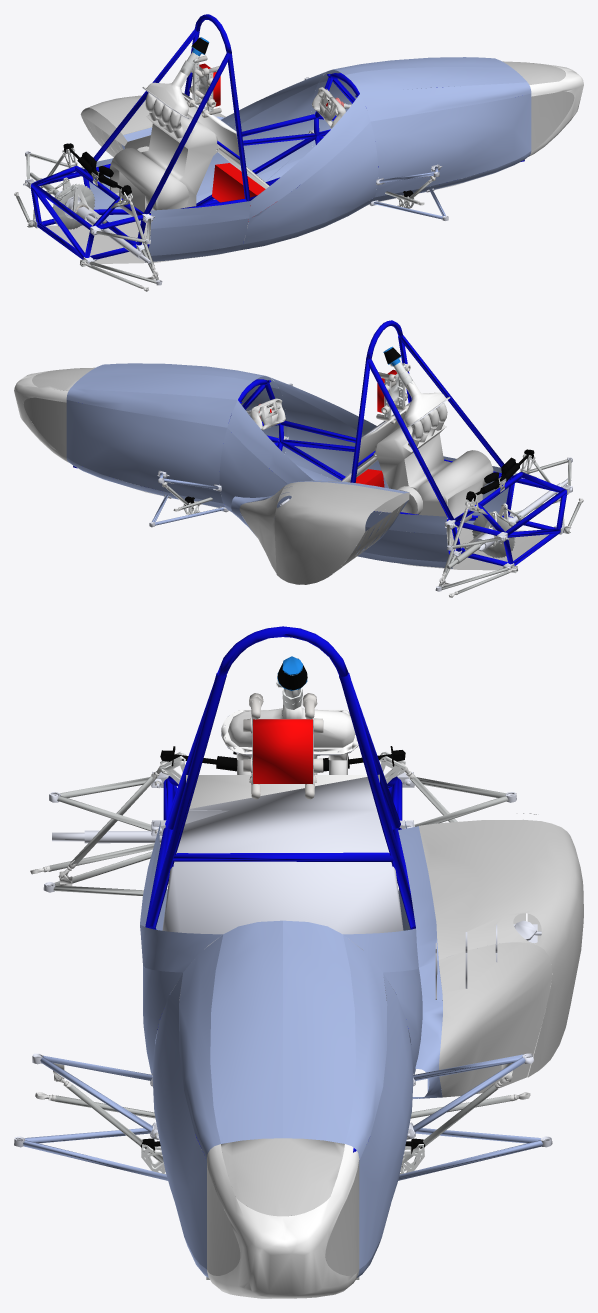
File: chassis.dae
3 renders of one model, top to bottom at view 1: azimuth 30°, elevation 25°; view 2: azimuth 150°, elevation 25°; view 3: azimuth 270°, elevation 25°, orthographic. The views are drawn at different scales.
Parts seen in each view (by area): view 1: socket_head_cap_screw_am_PreviewCfg_9; view 2: socket_head_cap_screw_am_PreviewCfg_9; view 3: socket_head_cap_screw_am_PreviewCfg_9.
Part boxes in pixels (bbox=[...]): socket_head_cap_screw_am_PreviewCfg_9: bbox=[14, 14, 583, 291]; socket_head_cap_screw_am_PreviewCfg_9: bbox=[14, 320, 583, 597]; socket_head_cap_screw_am_PreviewCfg_9: bbox=[14, 626, 583, 1298].
Size of the model in its own units: 2.83 by 1.4 by 1.12.
